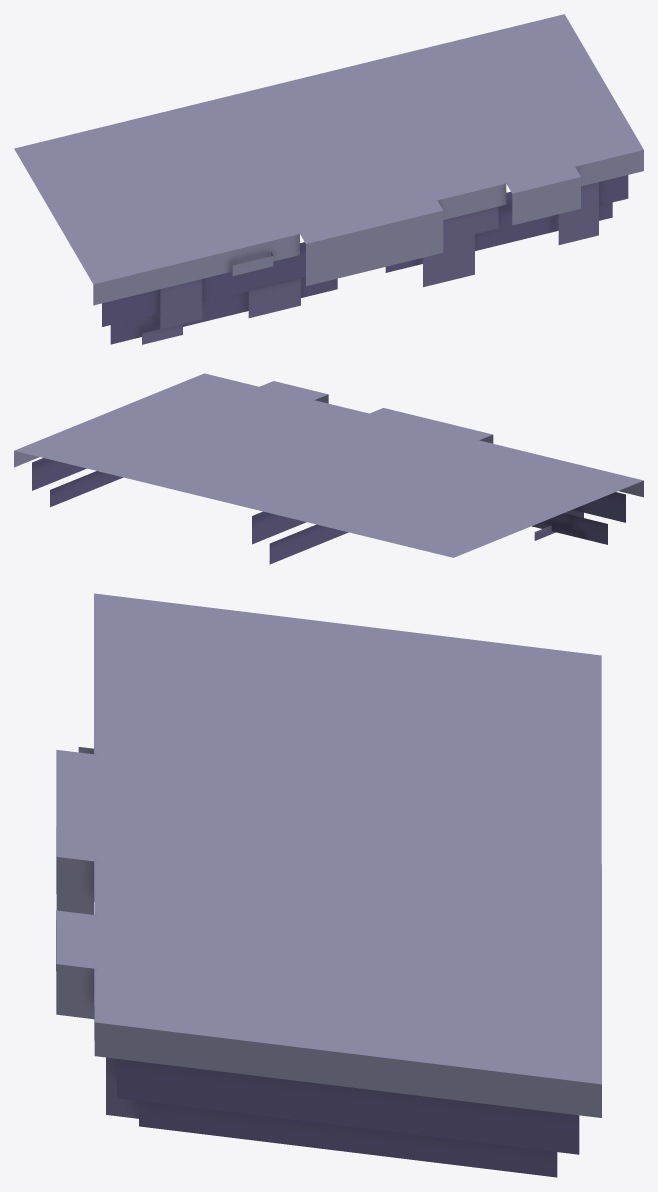
File: Field_Type_02_02.FBX
The picture shows the model from 3 angles, top to bottom: view 1: azimuth 30°, elevation 25°; view 2: azimuth 150°, elevation 25°; view 3: azimuth 270°, elevation 25°; orthographic projection. The views are drawn at different scales.
Parts seen in each view (by area): view 1: Field_Type_02_02; view 2: Field_Type_02_02; view 3: Field_Type_02_02.
Boxes of the visible parts, box(x1,y1,x2,y2) form: Field_Type_02_02: box(14, 14, 643, 344); Field_Type_02_02: box(14, 373, 643, 564); Field_Type_02_02: box(56, 593, 601, 1177).
Bounding box in the file's own units: 49.43 × 6.46 × 23.22.
